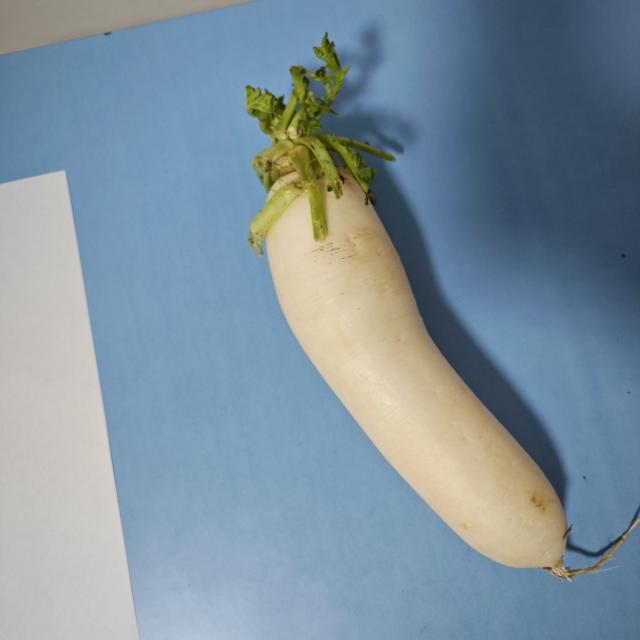-Kitchen waste - white radish-: (260, 127, 576, 581)
